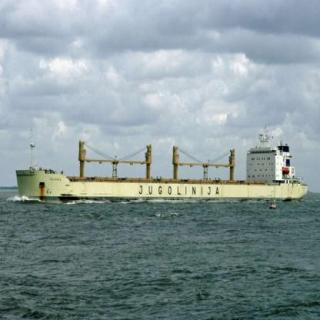Bulk Carrier: (11, 127, 316, 204)
